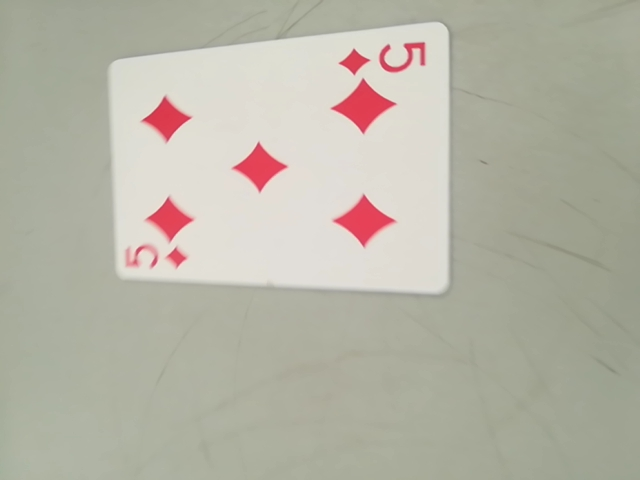fk 5: (338, 34, 430, 81), (120, 237, 191, 276)
